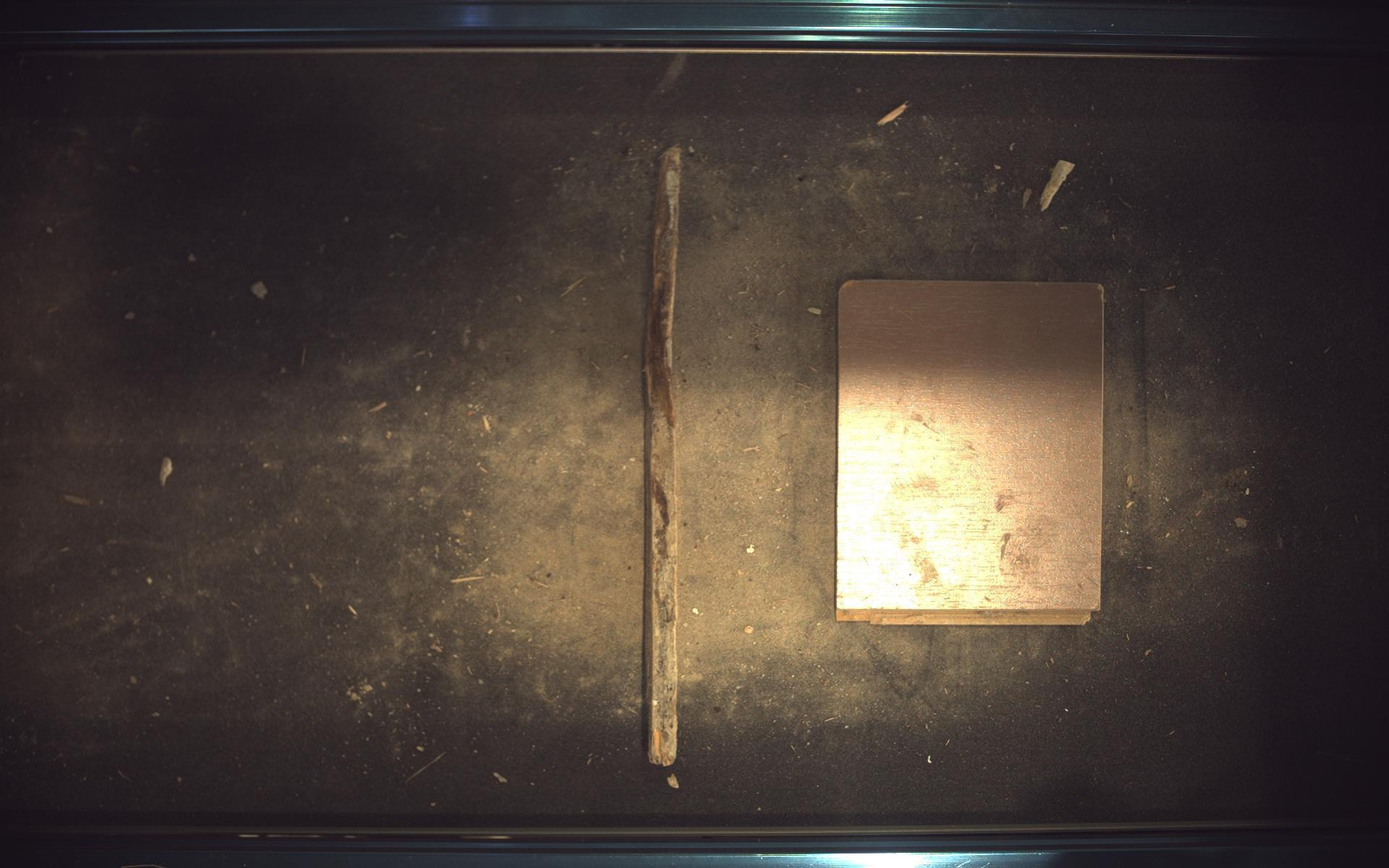wood: (839, 279, 1106, 626), (645, 145, 682, 767)
